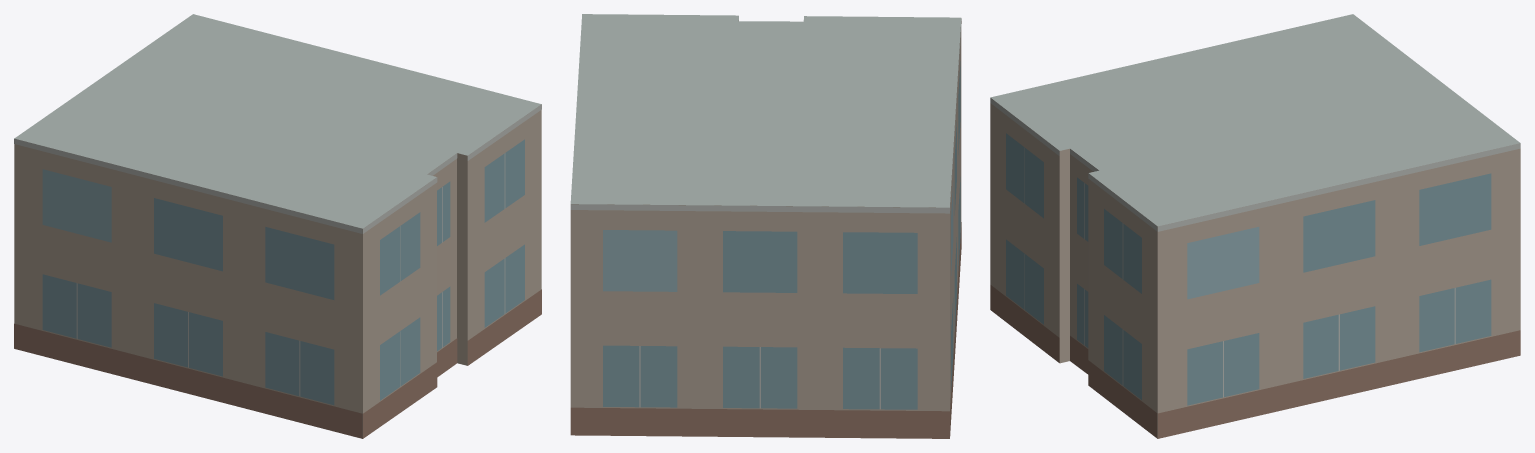
Rendered from survey-upis-32858932.glb.
3 renders of one model, left to right at view 1: azimuth 30°, elevation 25°; view 2: azimuth 150°, elevation 25°; view 3: azimuth 270°, elevation 25°, orthographic. The views are drawn at different scales.
Visible parts, largest first — view 1: survey-upis-32858932.tmp; view 2: survey-upis-32858932.tmp; view 3: survey-upis-32858932.tmp.
Part boxes in pixels (x1,y1,x2,y2): survey-upis-32858932.tmp: (14, 14, 541, 438); survey-upis-32858932.tmp: (570, 14, 961, 438); survey-upis-32858932.tmp: (990, 14, 1520, 438).
Bounding box in the file's own units: 20.39 × 9.5 × 21.51.
